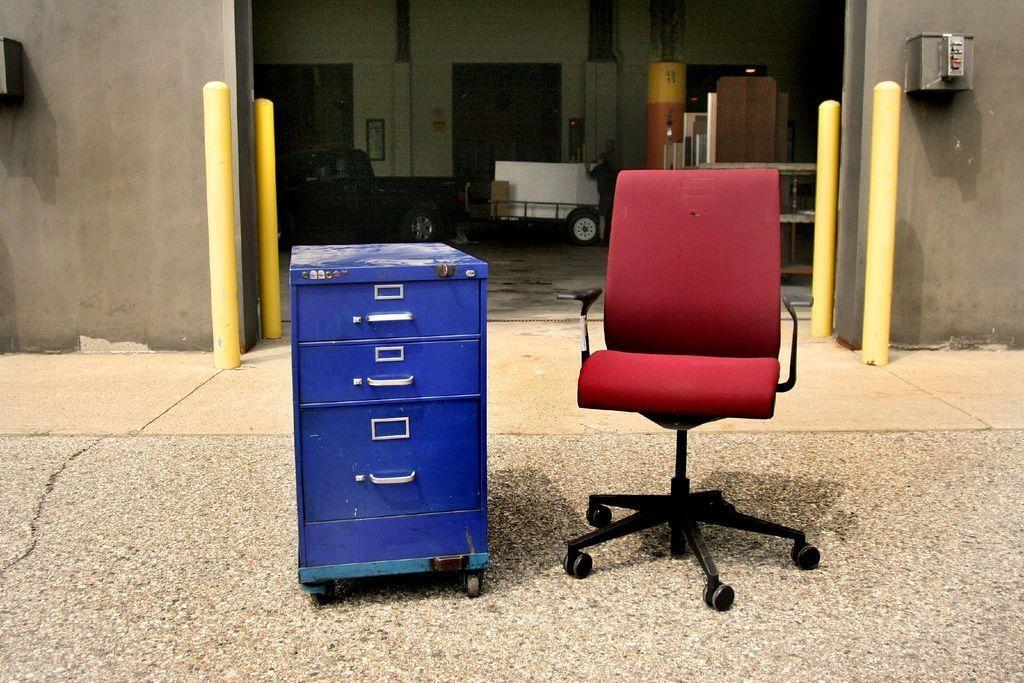Filing Cabinet: (288, 262, 487, 601)
Kursi: (555, 167, 820, 609)
